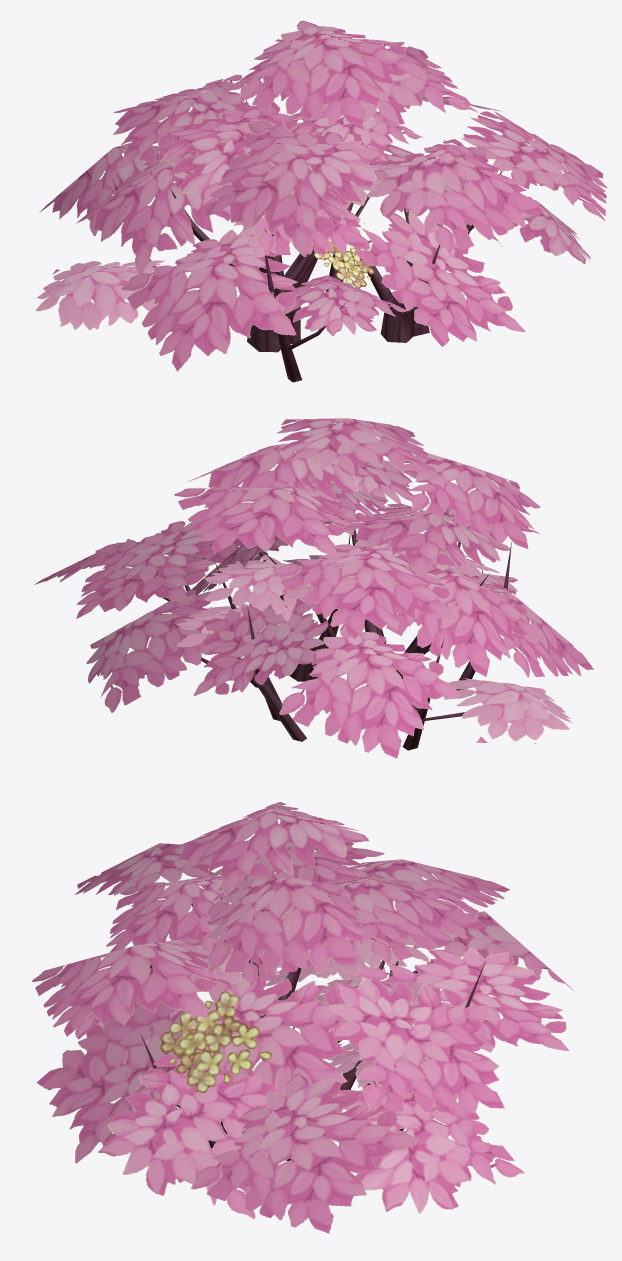
The model's file is map_shu20a.FBX.
The picture shows the model from 3 angles, top to bottom: view 1: azimuth 30°, elevation 25°; view 2: azimuth 150°, elevation 25°; view 3: azimuth 270°, elevation 25°; orthographic projection. The views are drawn at different scales.
Parts seen in each view (by area): view 1: map_shu20a; view 2: map_shu20a; view 3: map_shu20a.
Boxes of the visible parts, box(x1,y1,x2,y2) form: map_shu20a: box(34, 20, 606, 382); map_shu20a: box(34, 418, 593, 758); map_shu20a: box(32, 802, 575, 1233).
Bounding box in the file's own units: 13.8 × 6.52 × 10.55.
